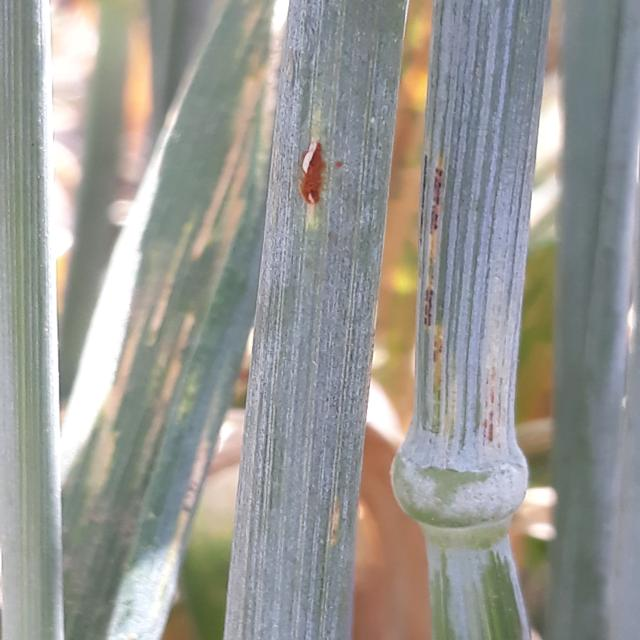black_stem_rust: (254, 29, 416, 563), (397, 0, 537, 513)
